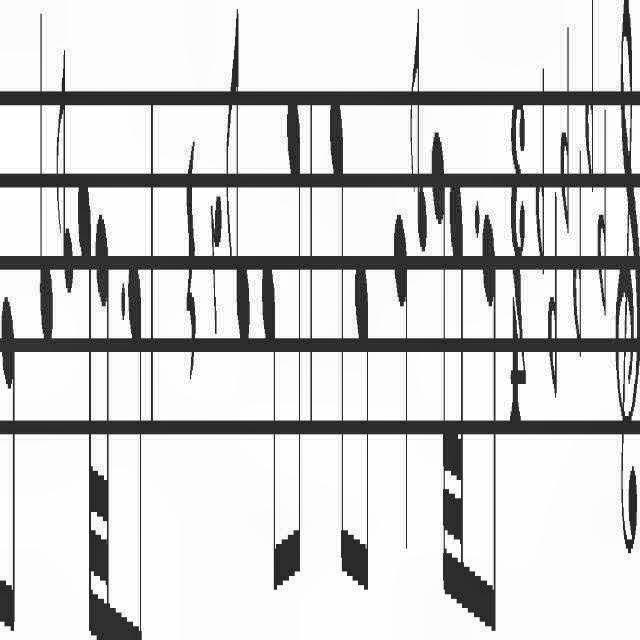Bass-clef: (615, 0, 640, 558), (639, 0, 640, 558)
Bemol: (572, 140, 584, 360), (534, 62, 546, 278), (560, 14, 570, 254), (548, 186, 558, 412), (597, 102, 607, 326), (585, 0, 595, 200)
Eighth-note: (328, 92, 352, 604), (226, 2, 252, 358), (262, 251, 284, 617), (286, 94, 302, 594), (482, 210, 498, 640), (354, 245, 370, 619), (0, 288, 16, 640), (128, 242, 142, 640)
Eighth-rest: (209, 184, 223, 348)
Quarter-note: (393, 205, 409, 560), (38, 4, 54, 356)
Quarter-rest: (184, 137, 196, 387)
